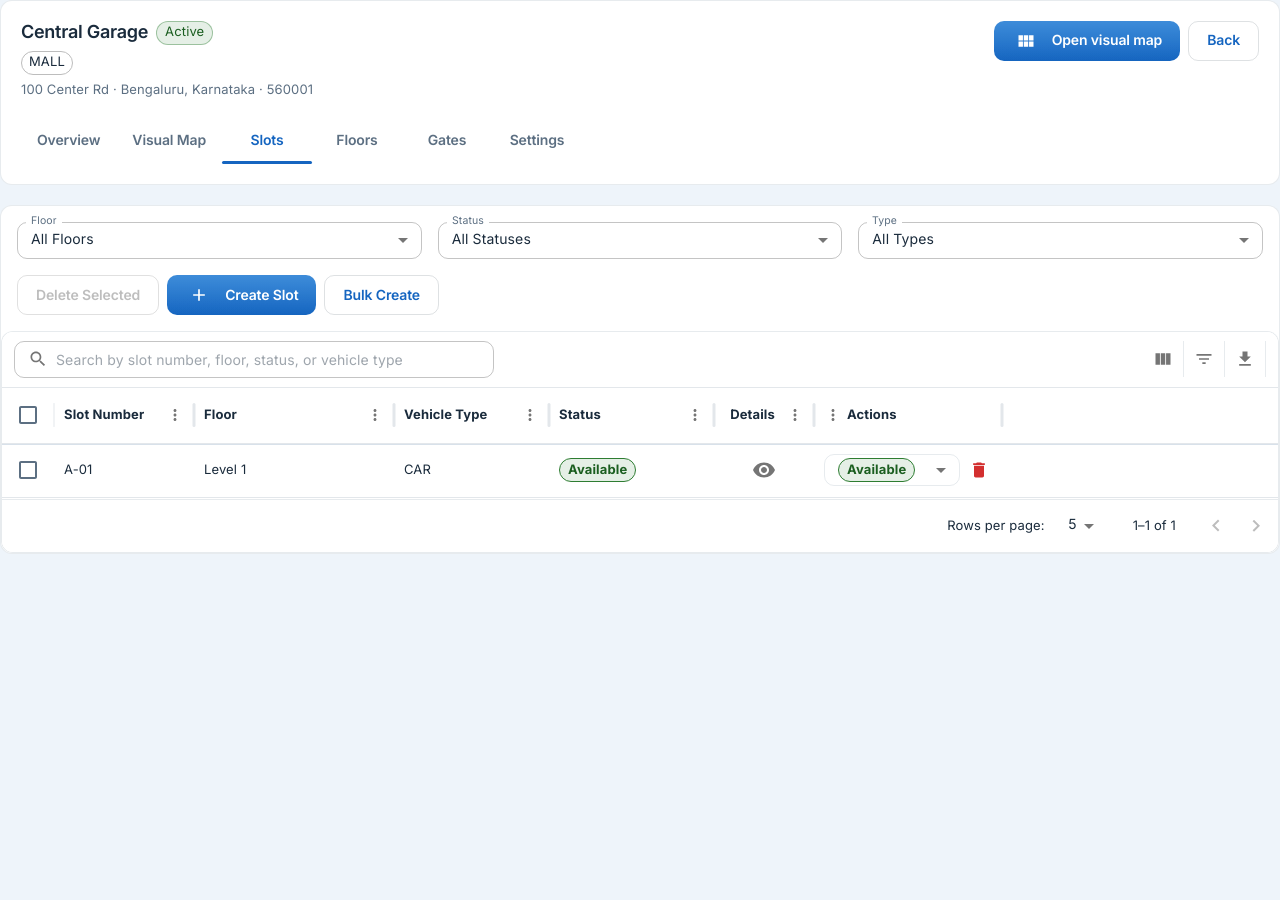
Test case: ParkingLotDetailsPage › updates slot status and deletes a slot
Expected: the text "A-01" is shown, [64,462,92,478]
Click the dropdown labelled "Available" at (877, 470), box [838,458,915,482]
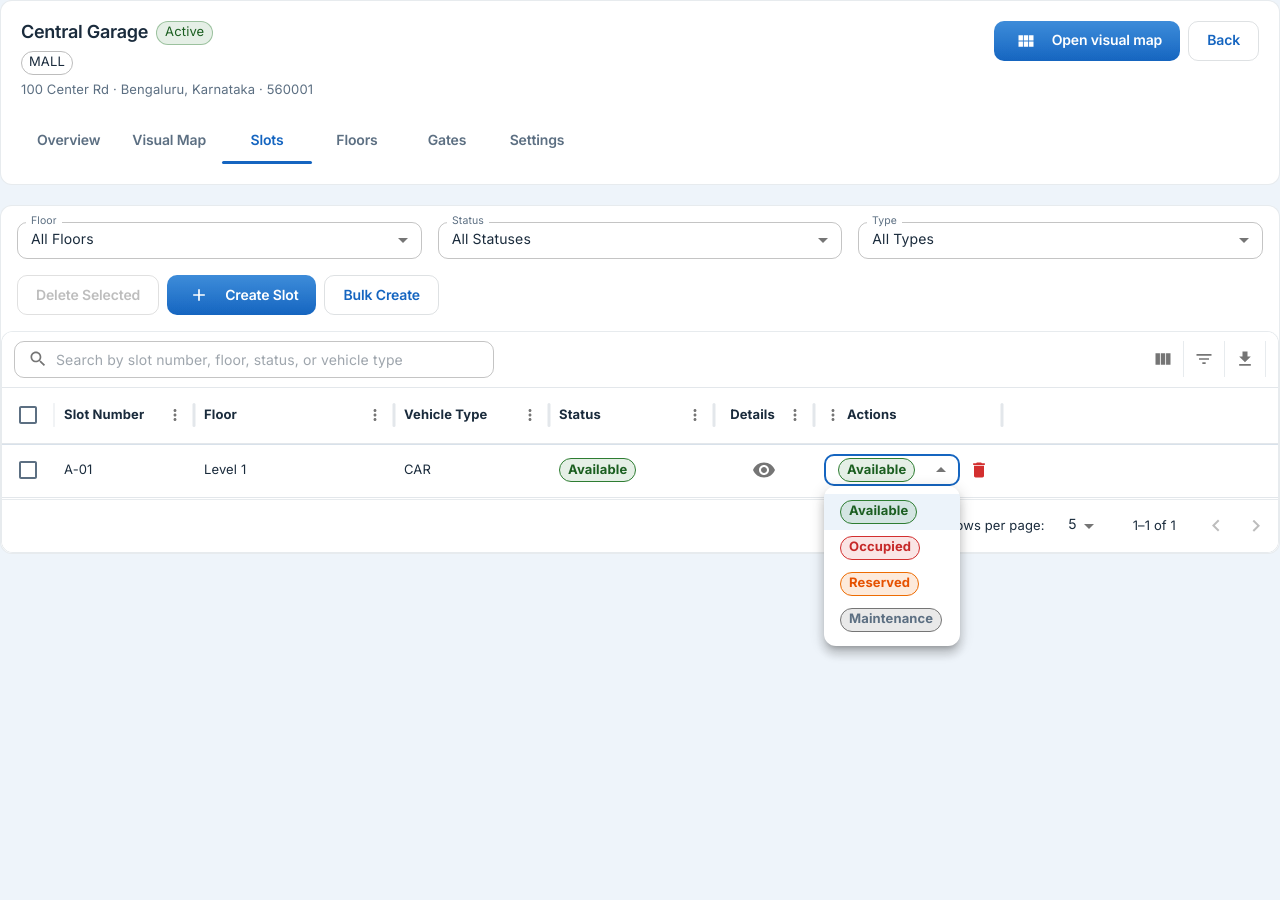
Click the option "Occupied" at (880, 548), box [840,536,920,560]
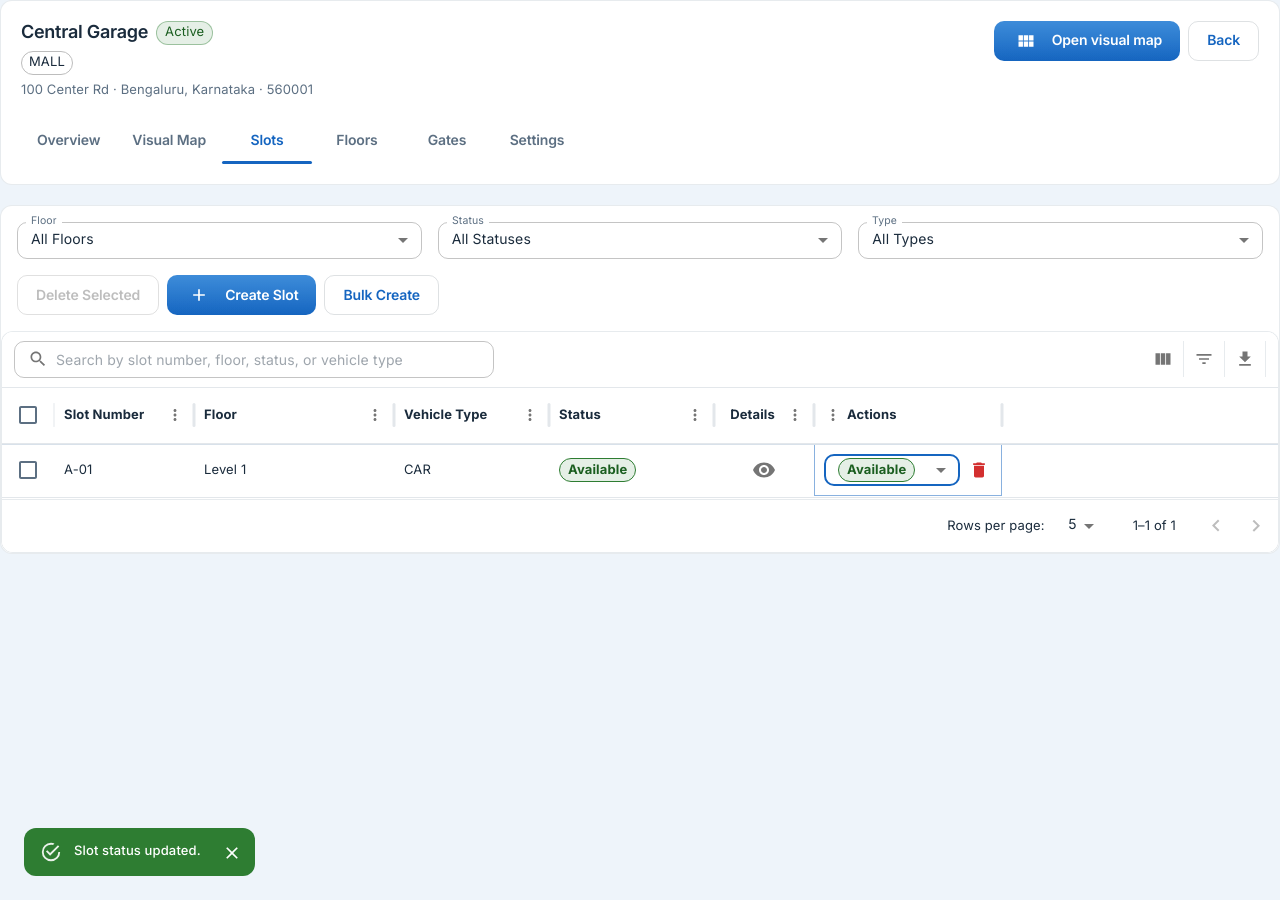
Result: the text "Slot status updated." is shown at [74,843,201,859]
Click the button named "delete" at (979, 470), box [964,456,994,486]
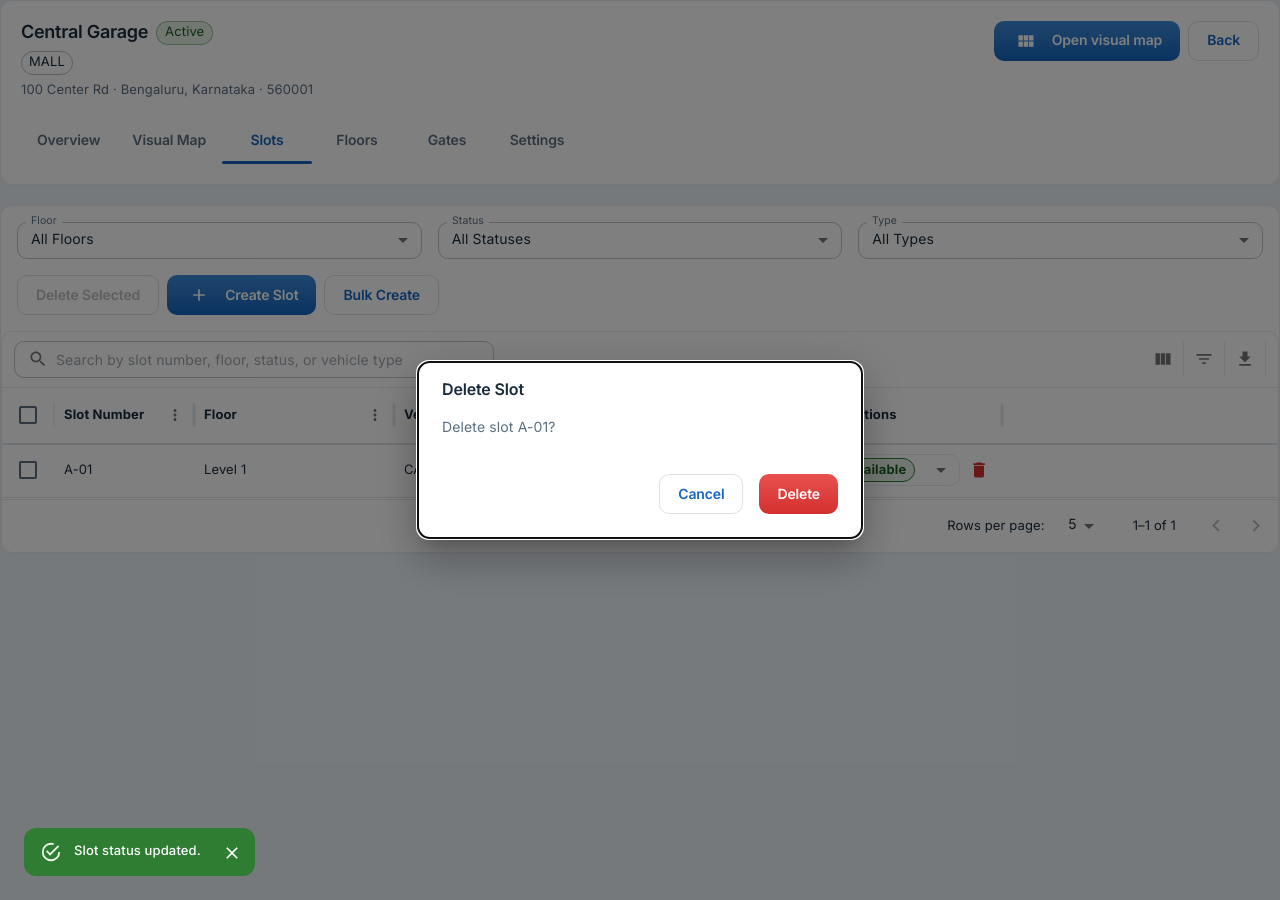
Click the button "Delete" at (799, 494), box [759,474,838,514]
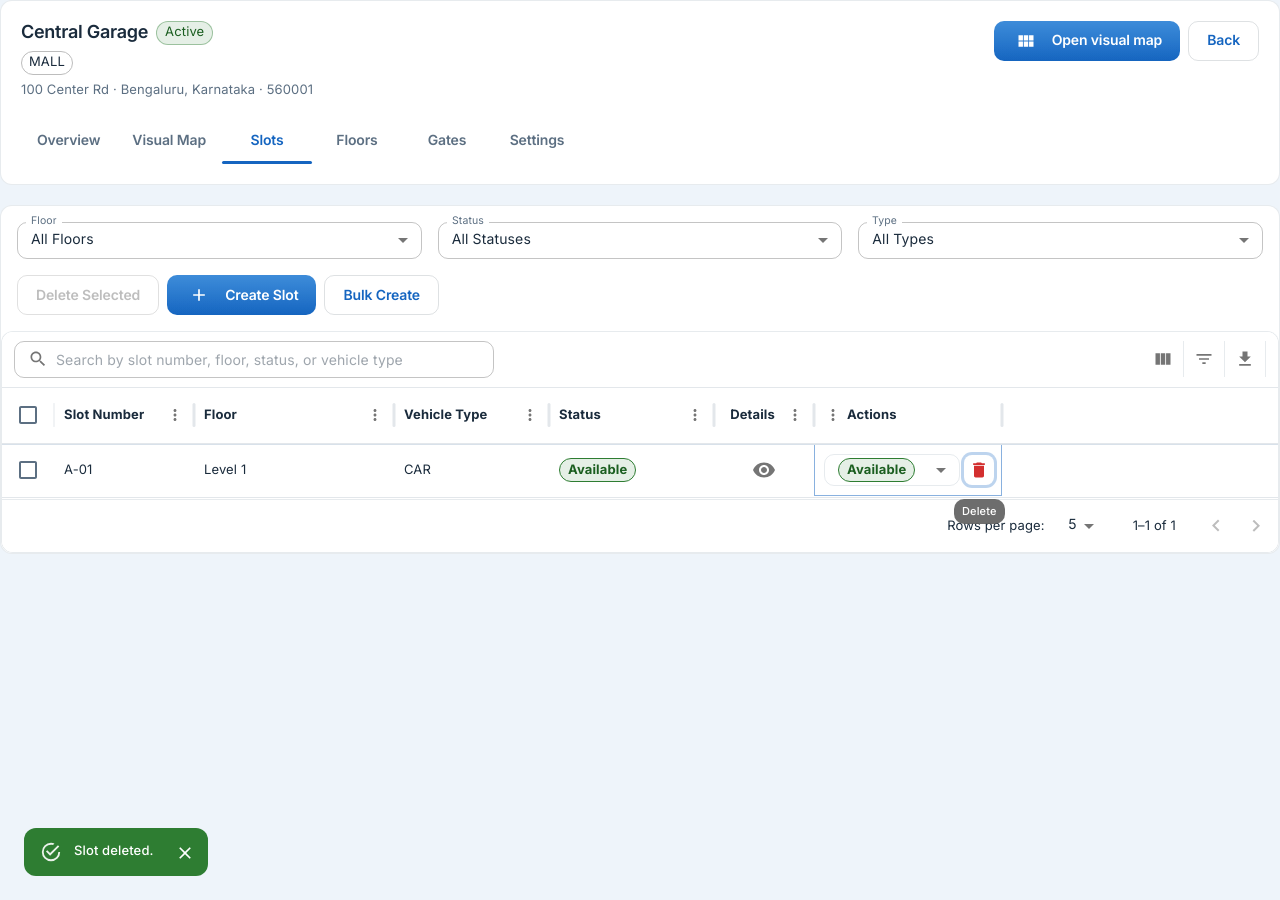
Result: the text "Slot deleted." is shown at [74,843,154,859]
